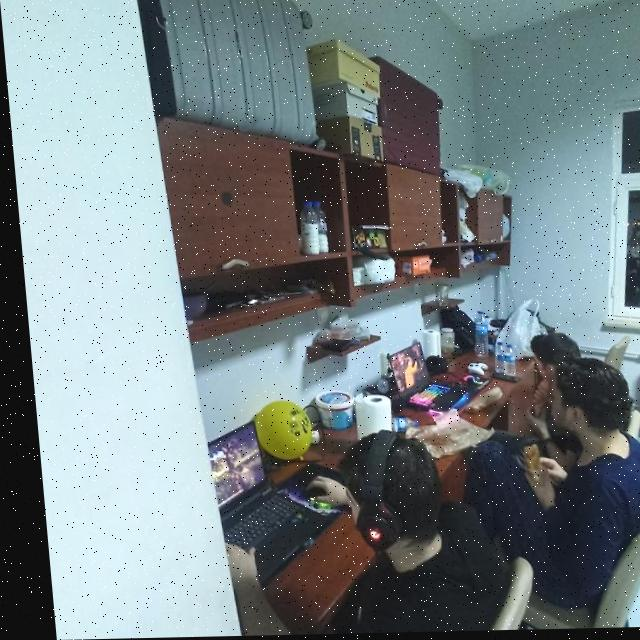balloon: (248, 401, 305, 465)
